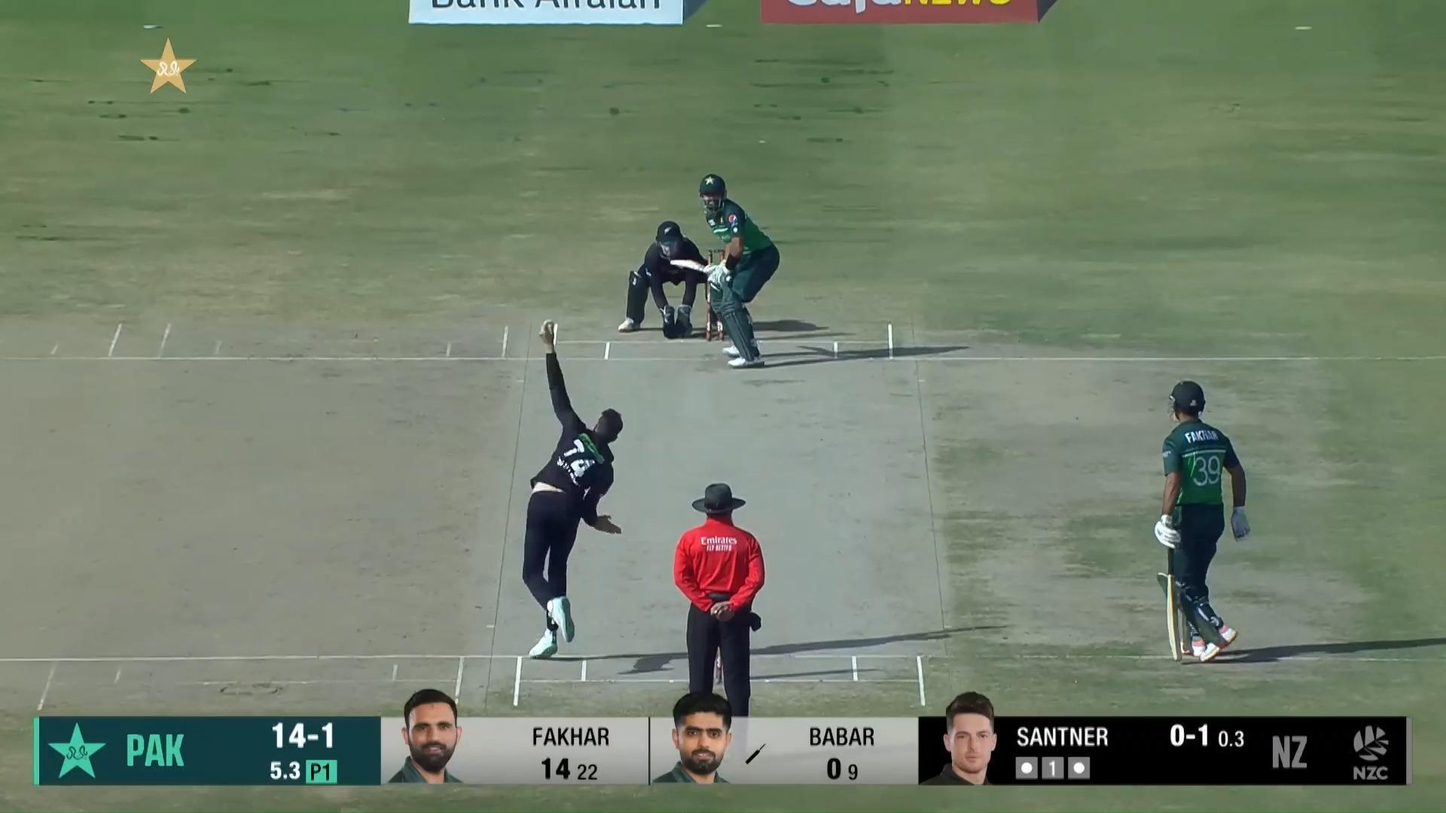BM 1: (670, 174, 781, 365)
BO: (521, 320, 623, 660)
